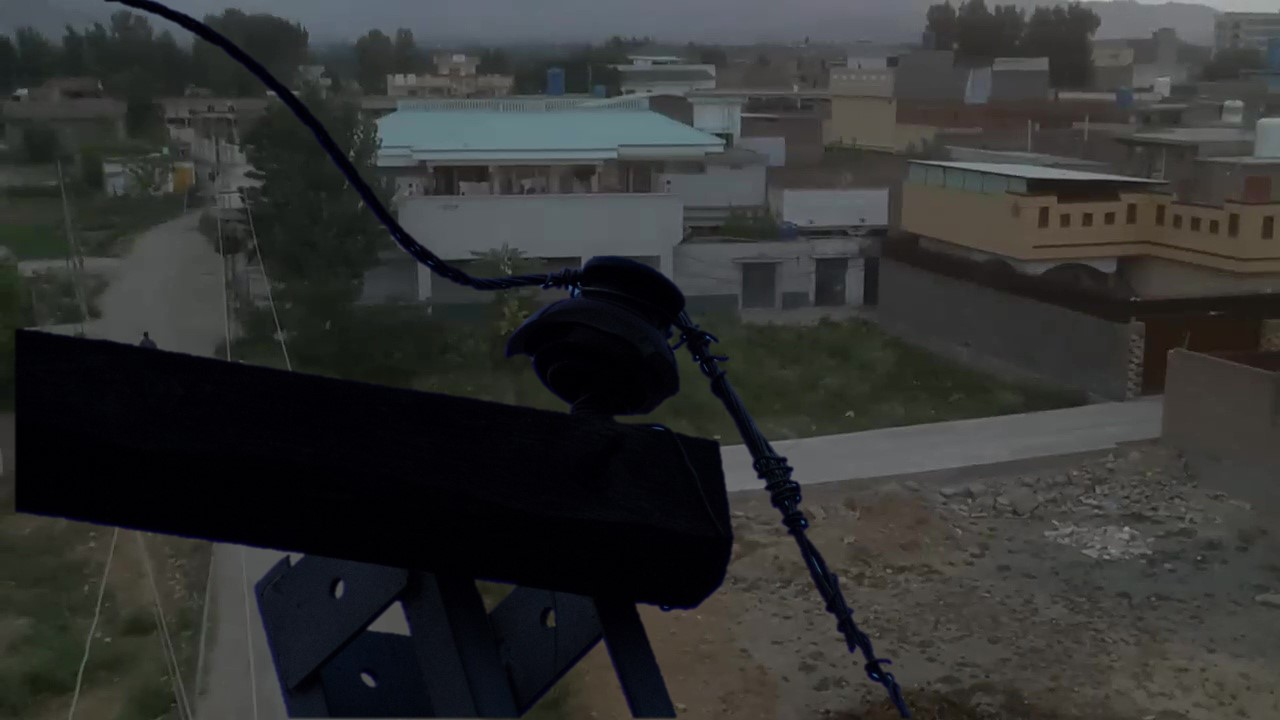defect_pin: (501, 240, 708, 424)
